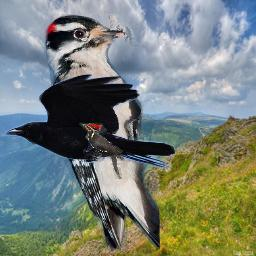Crow: (5, 74, 177, 170)
Woodpecker: (44, 14, 160, 252), (79, 123, 125, 179)
